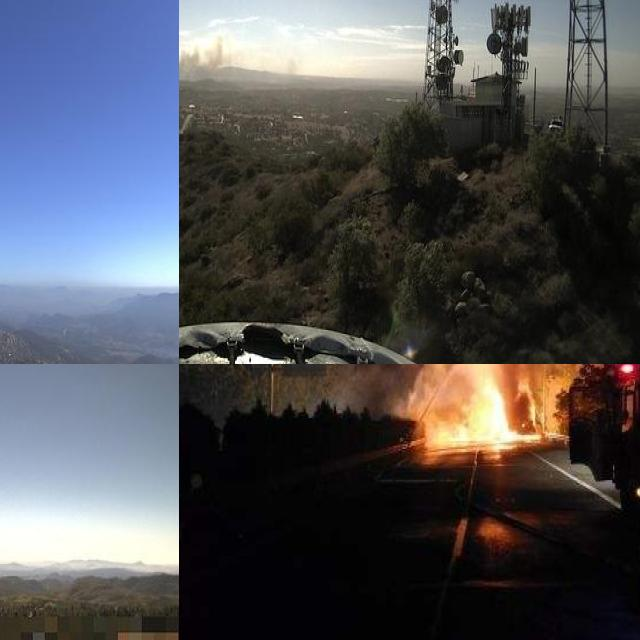fire: (412, 364, 538, 444)
smoke: (179, 26, 242, 90)
